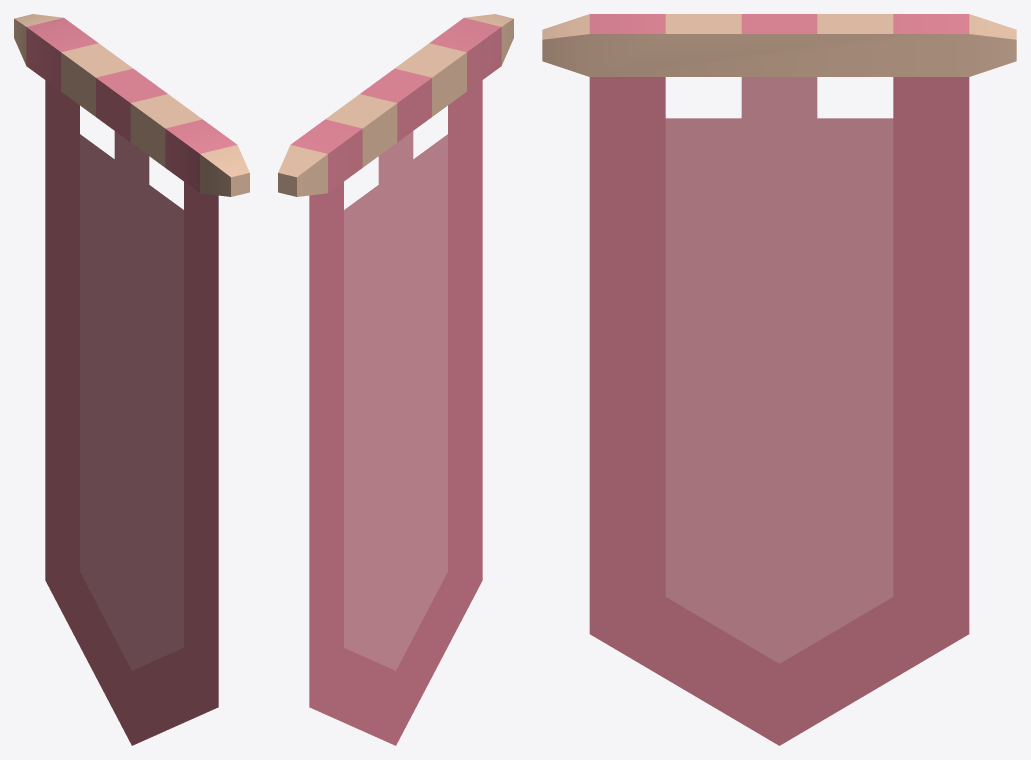
3 views of the same model, side by side, from view 1: azimuth 30°, elevation 25°; view 2: azimuth 150°, elevation 25°; view 3: azimuth 270°, elevation 25° (orthographic). The views are drawn at different scales.
Visible parts, largest first — view 1: bannerRed; view 2: bannerRed; view 3: bannerRed.
Part boxes in pixels (box(x1,y1,x2,y2)): bannerRed: box(14, 14, 249, 745); bannerRed: box(278, 14, 513, 745); bannerRed: box(542, 14, 1016, 745).
Bounding box in the file's own units: 0.05 × 0.8394 × 0.5.
